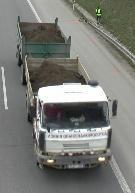truck: (15, 15, 117, 174)
